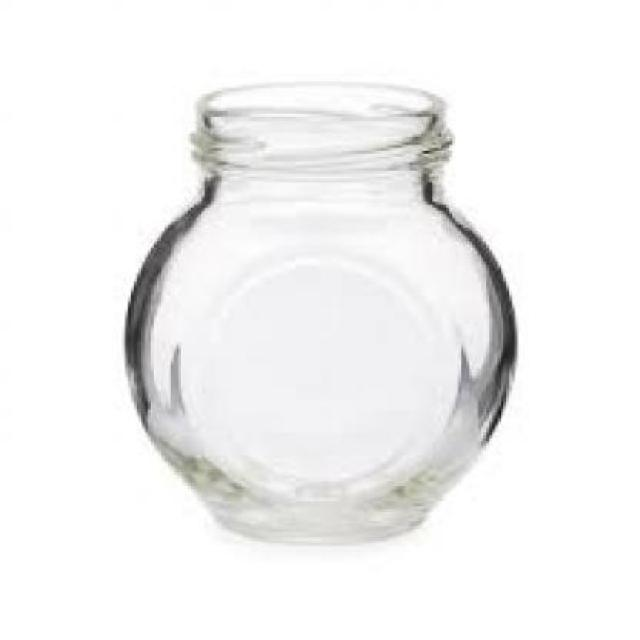kaca: (120, 83, 512, 543)
